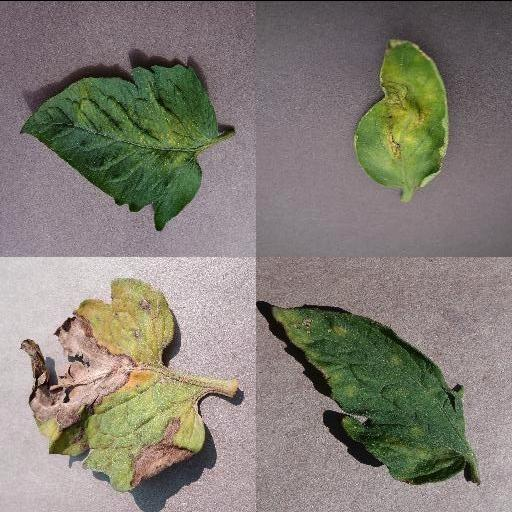Late Blight: (16, 275, 208, 491), (353, 37, 453, 187)
Leaf Mold: (271, 306, 465, 483)
Spider Mites: (19, 60, 217, 230)
